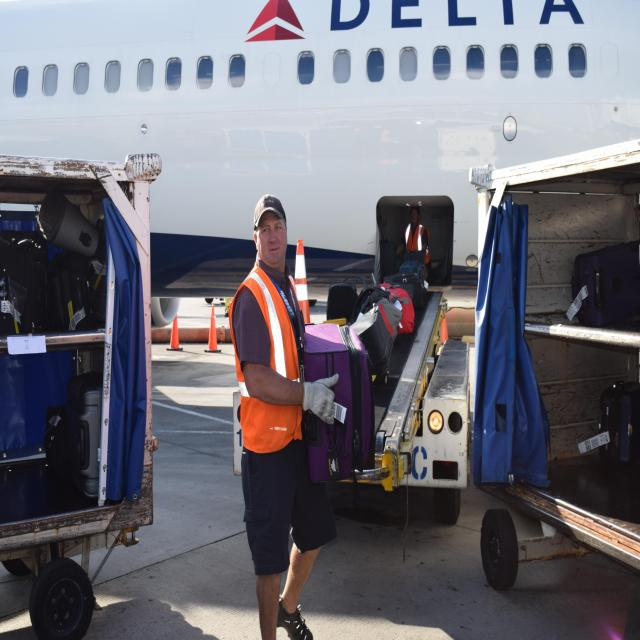vest: (228, 271, 319, 452)
